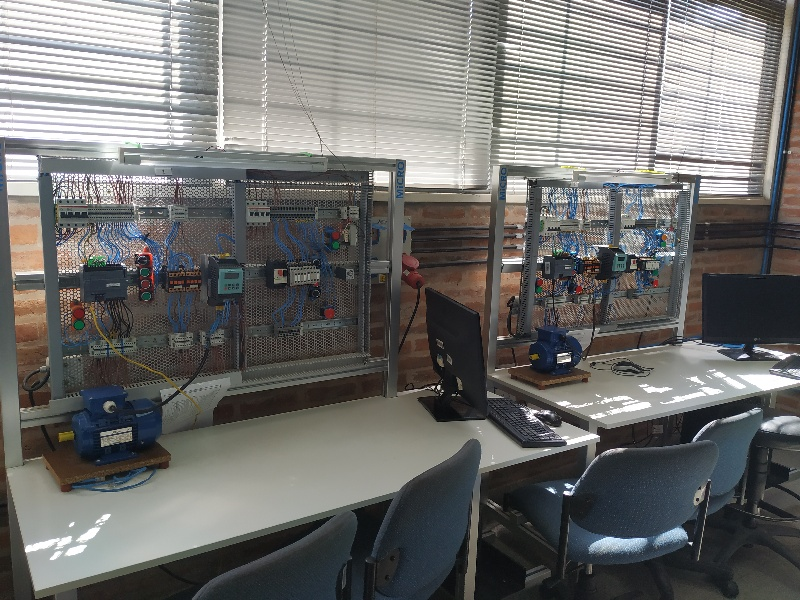Tablero 1: (47, 165, 379, 378)
Tablero 2: (534, 182, 691, 334)
